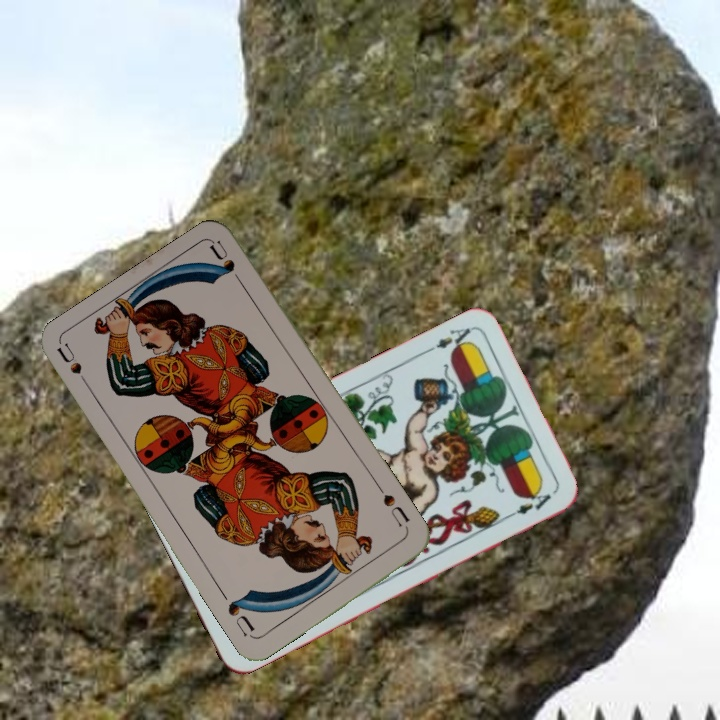EA: (432, 323, 474, 356)
SU: (54, 340, 95, 396), (379, 490, 413, 535)
